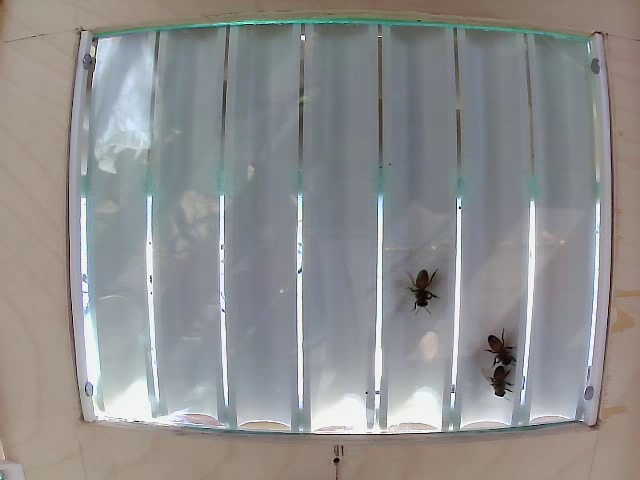bee: (401, 261, 444, 318), (478, 322, 519, 363), (486, 373, 519, 409)
